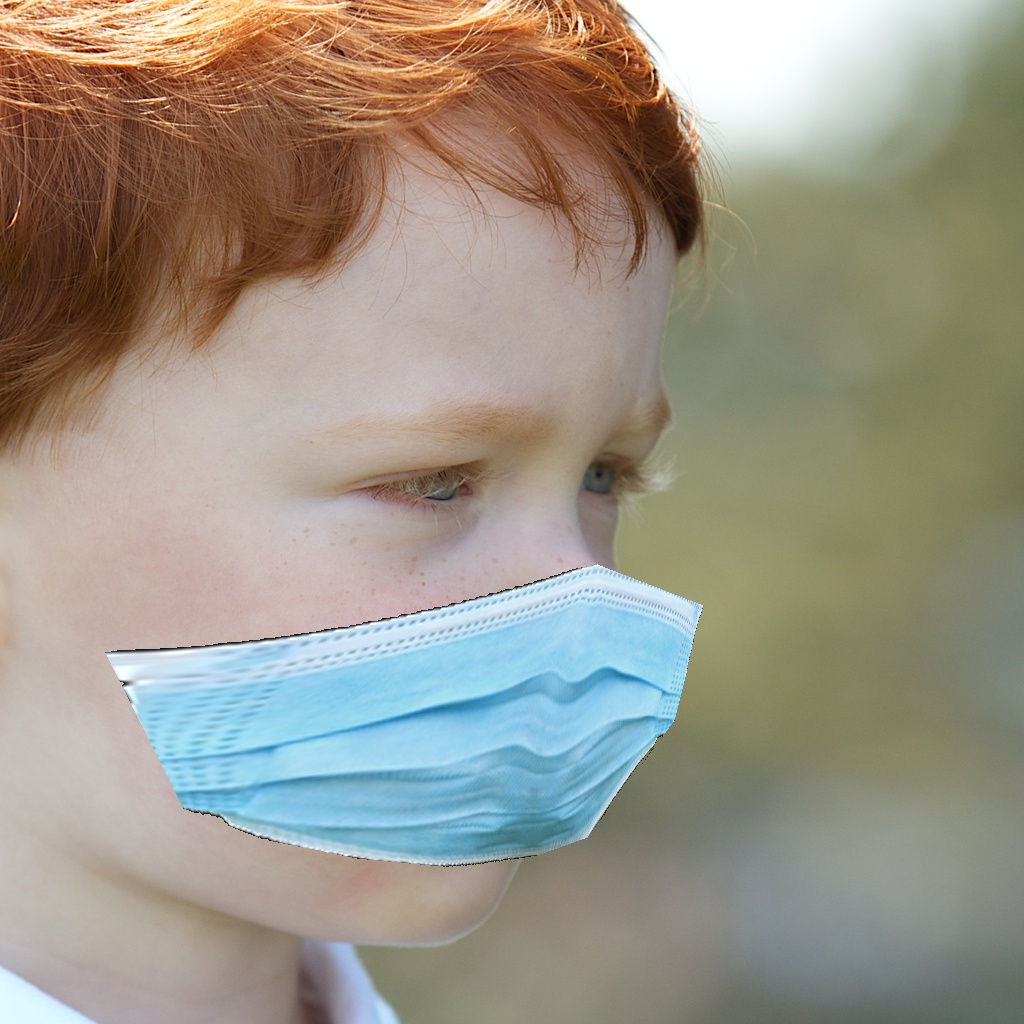mask_weared_incorrect: (234, 381, 704, 968)
